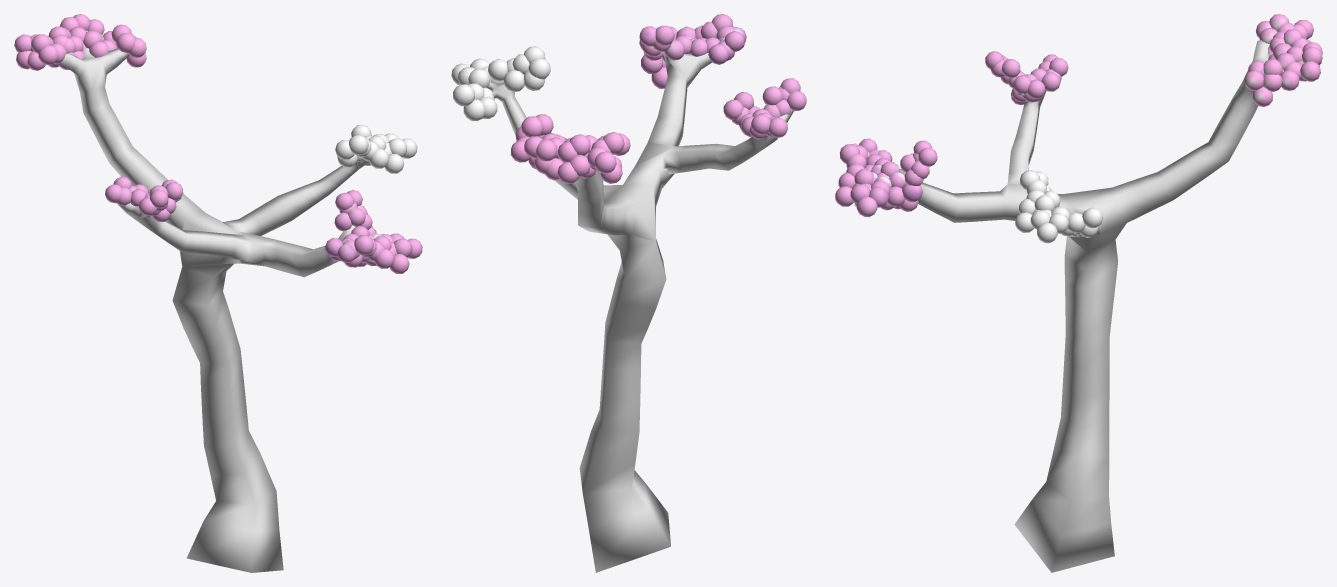
Rendered from tree_2.fbx_Scene.fbx.
3 renders of one model, left to right at view 1: azimuth 30°, elevation 25°; view 2: azimuth 150°, elevation 25°; view 3: azimuth 270°, elevation 25°, orthographic. The views are drawn at different scales.
Parts seen in each view (by area): view 1: Cube, Icosphere, Icosphere.002, Icosphere.001, Icosphere.003; view 2: Cube, Icosphere, Icosphere.002, Icosphere.001, Icosphere.003; view 3: Cube, Icosphere.002, Icosphere, Icosphere.001, Icosphere.003.
Boxes of the visible parts, box(x1,y1,x2,y2) form: Cube: box(56, 30, 374, 572); Icosphere: box(14, 14, 146, 70); Icosphere.002: box(325, 190, 422, 273); Icosphere.001: box(335, 124, 417, 173); Icosphere.003: box(105, 176, 183, 221); Cube: box(487, 52, 793, 572); Icosphere: box(510, 114, 630, 184); Icosphere.002: box(639, 14, 746, 88); Icosphere.001: box(451, 46, 550, 121); Icosphere.003: box(723, 78, 806, 139); Cube: box(854, 40, 1303, 572); Icosphere.002: box(835, 138, 937, 217); Icosphere: box(1244, 14, 1322, 106); Icosphere.001: box(1015, 170, 1102, 243); Icosphere.003: box(985, 51, 1068, 105).
Bounding box in the file's own units: 389 × 586 × 525.
